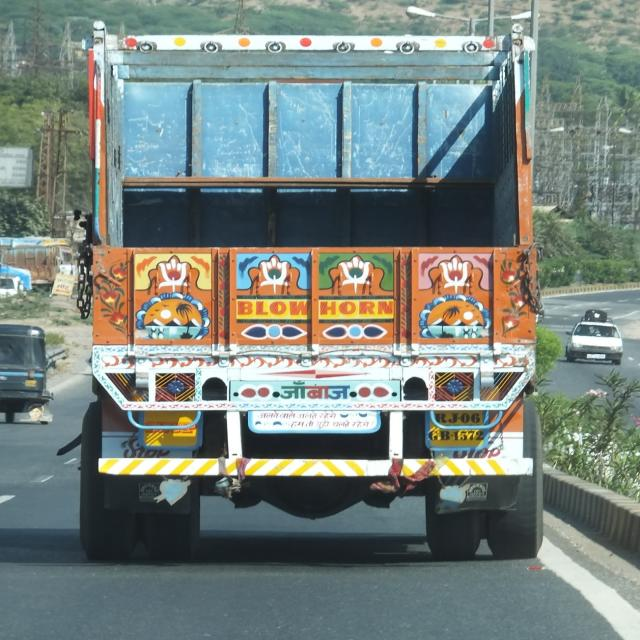truck: (80, 22, 540, 559)
